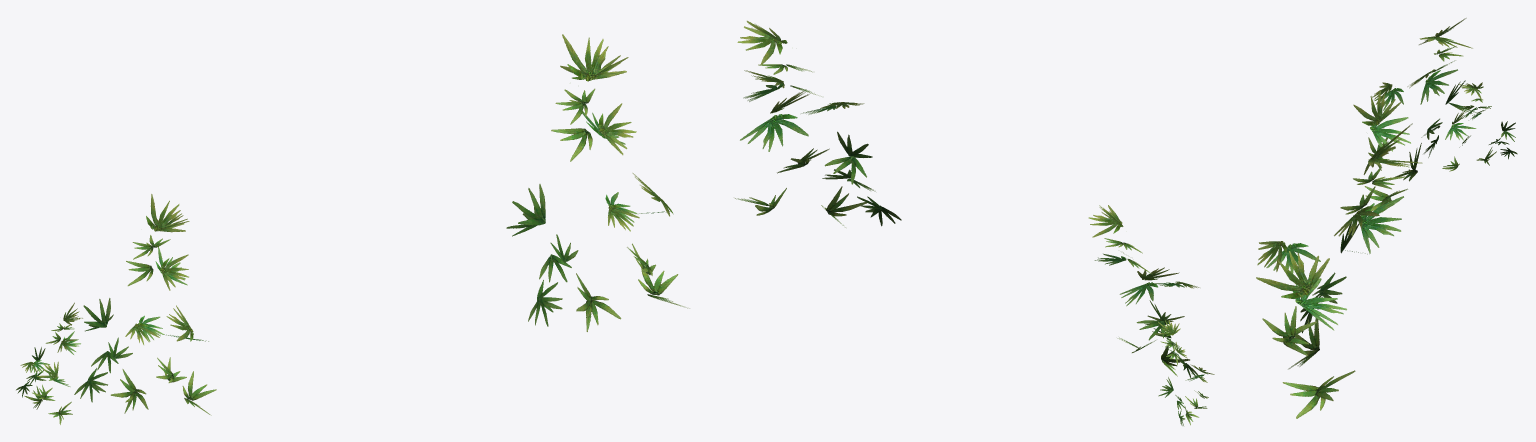
File: Area_09_6.fbx
3 renders of one model, left to right at view 1: azimuth 30°, elevation 25°; view 2: azimuth 150°, elevation 25°; view 3: azimuth 270°, elevation 25°, orthographic. The views are drawn at different scales.
Visible parts, largest first — view 1: Area_09_6; view 2: Area_09_6; view 3: Area_09_6.
Boxes of the visible parts, x1,y1,x2,y2 form: Area_09_6: (16, 34, 689, 424); Area_09_6: (735, 20, 1214, 425); Area_09_6: (1256, 18, 1517, 418).
Size of the model in its own units: 3979 by 1907 by 1545.
